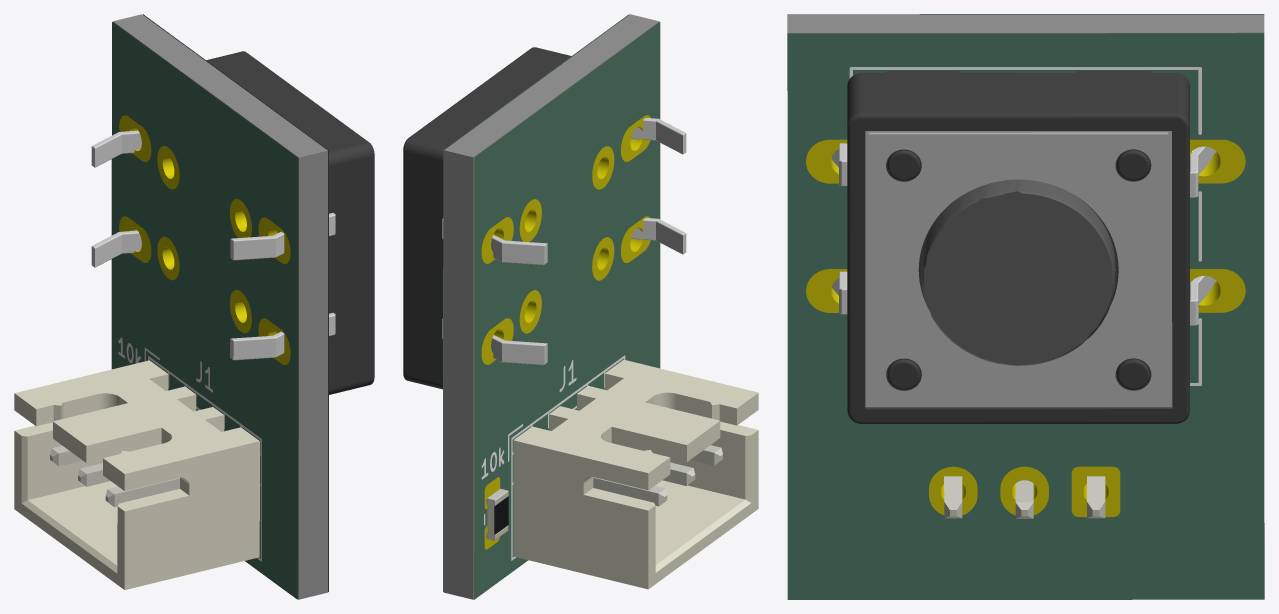
The model's file is button.glb.
The picture shows the model from 3 angles, left to right: view 1: azimuth 30°, elevation 25°; view 2: azimuth 150°, elevation 25°; view 3: azimuth 270°, elevation 25°; orthographic projection. The views are drawn at different scales.
Visible parts, largest first — view 1: R_0805_2012Metric002; view 2: R_0805_2012Metric002; view 3: R_0805_2012Metric002.
Part boxes in pixels (bbox=[...]): R_0805_2012Metric002: bbox=[14, 14, 374, 599]; R_0805_2012Metric002: bbox=[403, 14, 758, 599]; R_0805_2012Metric002: bbox=[787, 14, 1264, 599].
Bounding box in the file's own units: 70.72 × 119 × 90.9.
